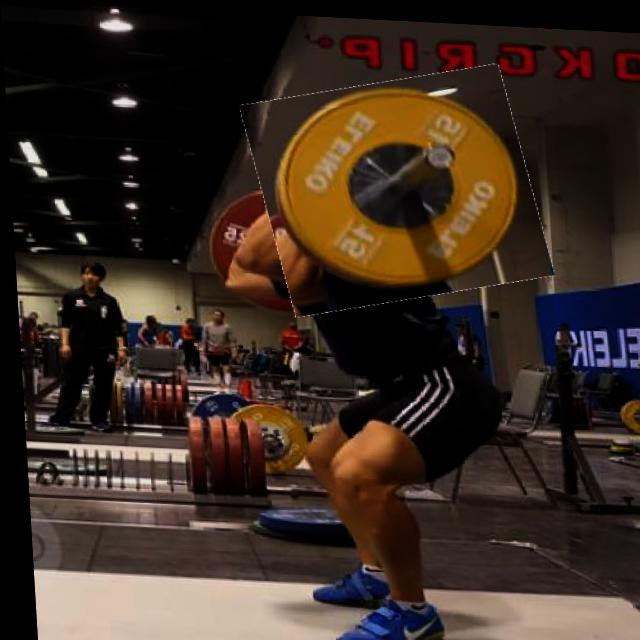barbell: (247, 62, 545, 313)
